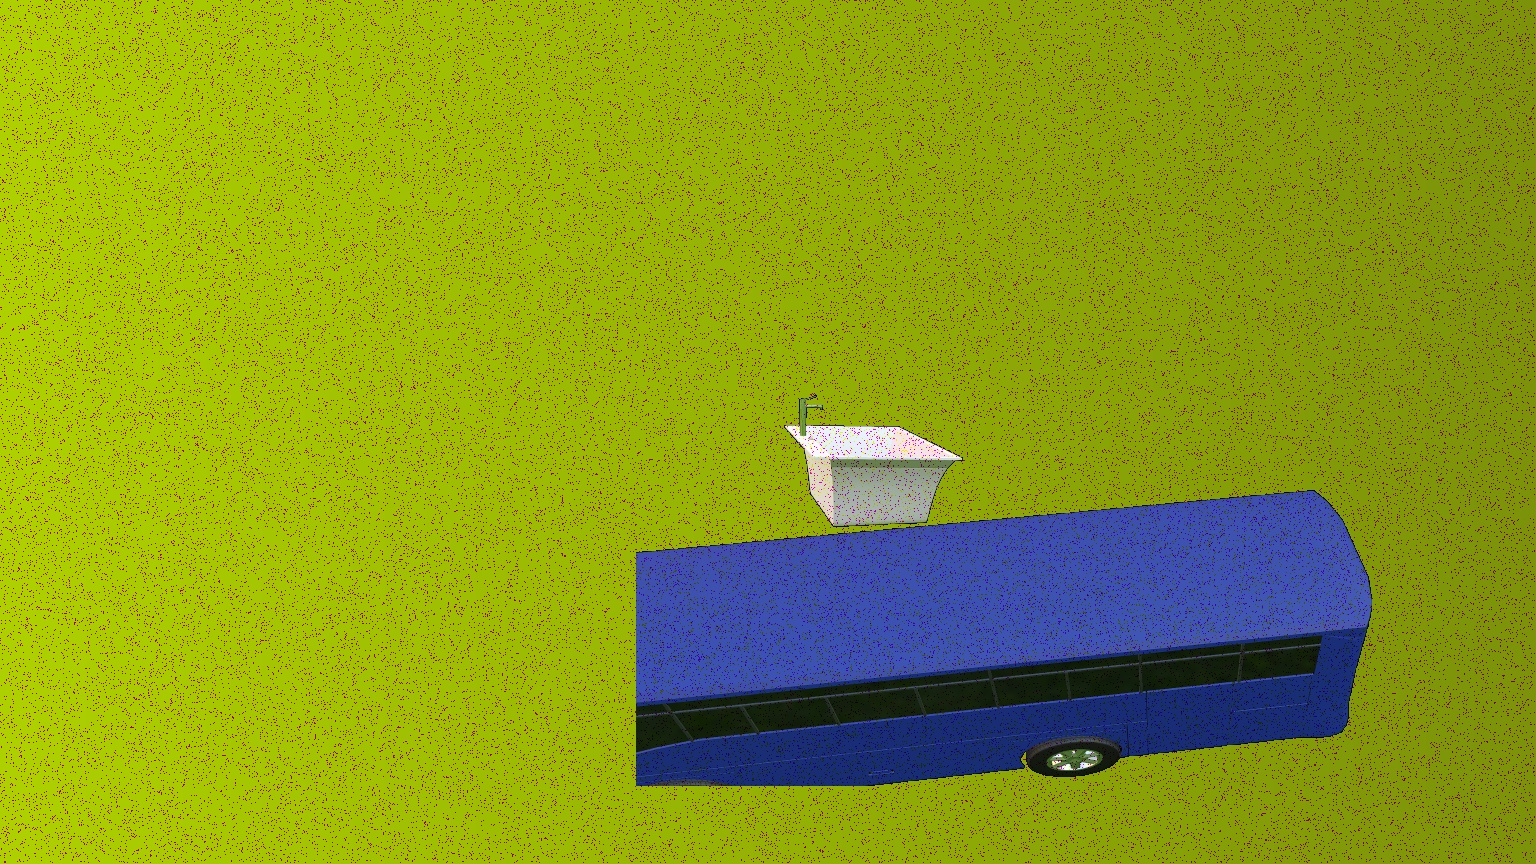banera: (784, 395, 963, 527)
bus: (636, 489, 1372, 786)
